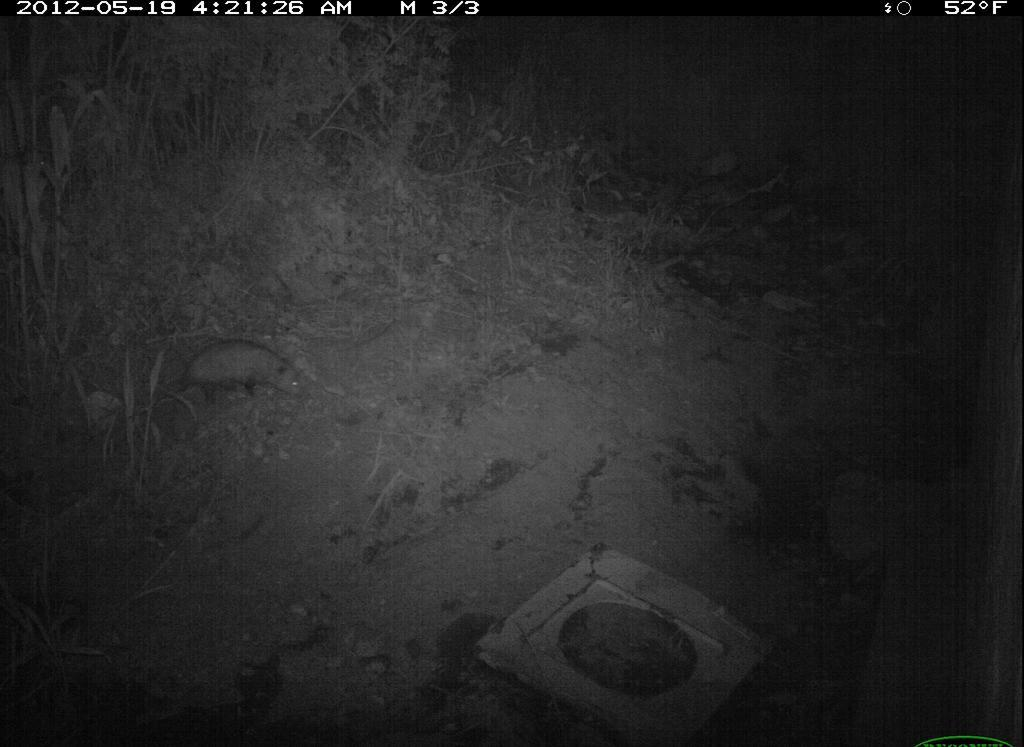opossum: (168, 336, 310, 413)
